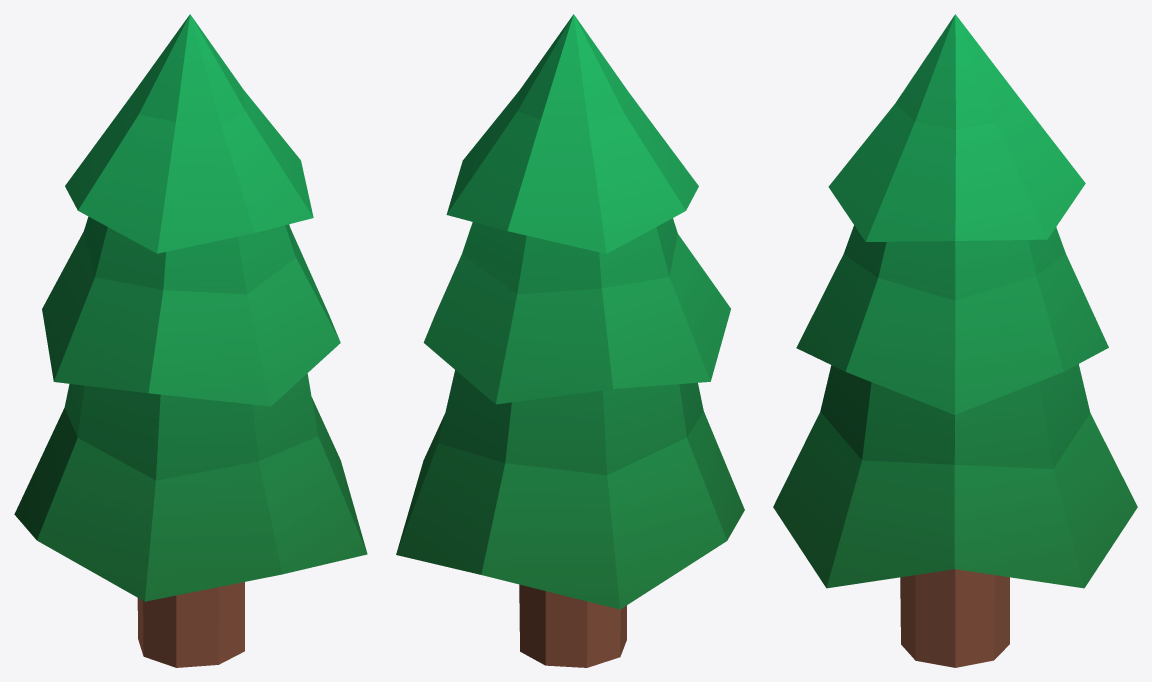
The model's file is summer_tree1_light.glb.
3 renders of one model, left to right at view 1: azimuth 30°, elevation 25°; view 2: azimuth 150°, elevation 25°; view 3: azimuth 270°, elevation 25°, orthographic.
Visible parts, largest first — view 1: Tree_01_gradient_green; view 2: Tree_01_gradient_green; view 3: Tree_01_gradient_green.
Part boxes in pixels (x1=…): Tree_01_gradient_green: x1=14, y1=14, x2=367, y2=667; Tree_01_gradient_green: x1=396, y1=14, x2=744, y2=667; Tree_01_gradient_green: x1=773, y1=14, x2=1137, y2=667.
Size of the model in its own units: 0.8322 by 1.65 by 0.8678.
1 material, 1 textured.
